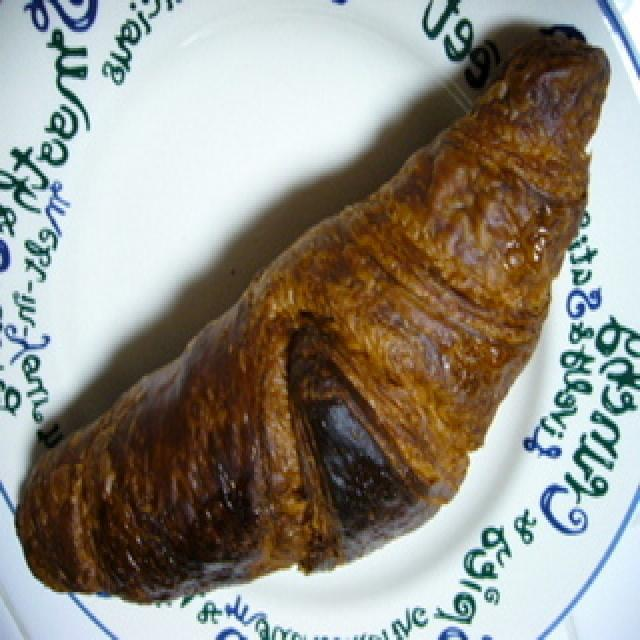Croissant: (20, 33, 612, 611)
